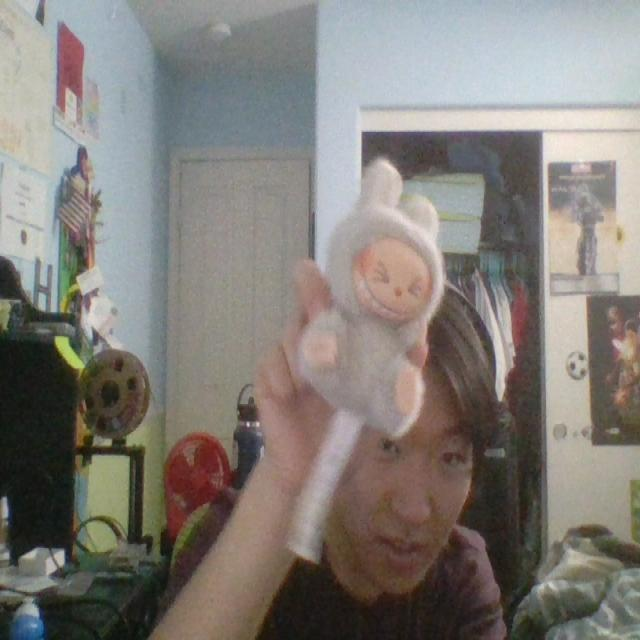labubu: (300, 159, 444, 436)
